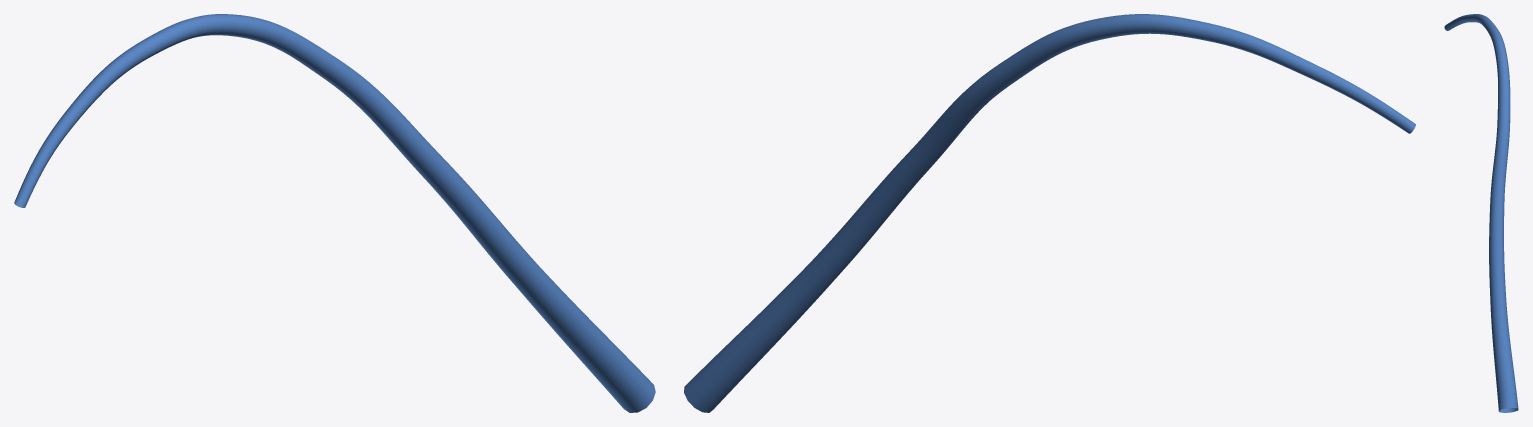
3 renders of one model, left to right at view 1: azimuth 30°, elevation 25°; view 2: azimuth 150°, elevation 25°; view 3: azimuth 270°, elevation 25°, orthographic. The views are drawn at different scales.
Visible parts, largest first — view 1: 右侧旋肱后静脉; view 2: 右侧旋肱后静脉; view 3: 右侧旋肱后静脉.
Part boxes in pixels (left/top/right/bottom): 右侧旋肱后静脉: left=14, top=14, right=655, bottom=412; 右侧旋肱后静脉: left=684, top=14, right=1415, bottom=412; 右侧旋肱后静脉: left=1444, top=14, right=1518, bottom=412.
Bounding box in the file's own units: 0.0761 × 0.0534 × 0.0134.
